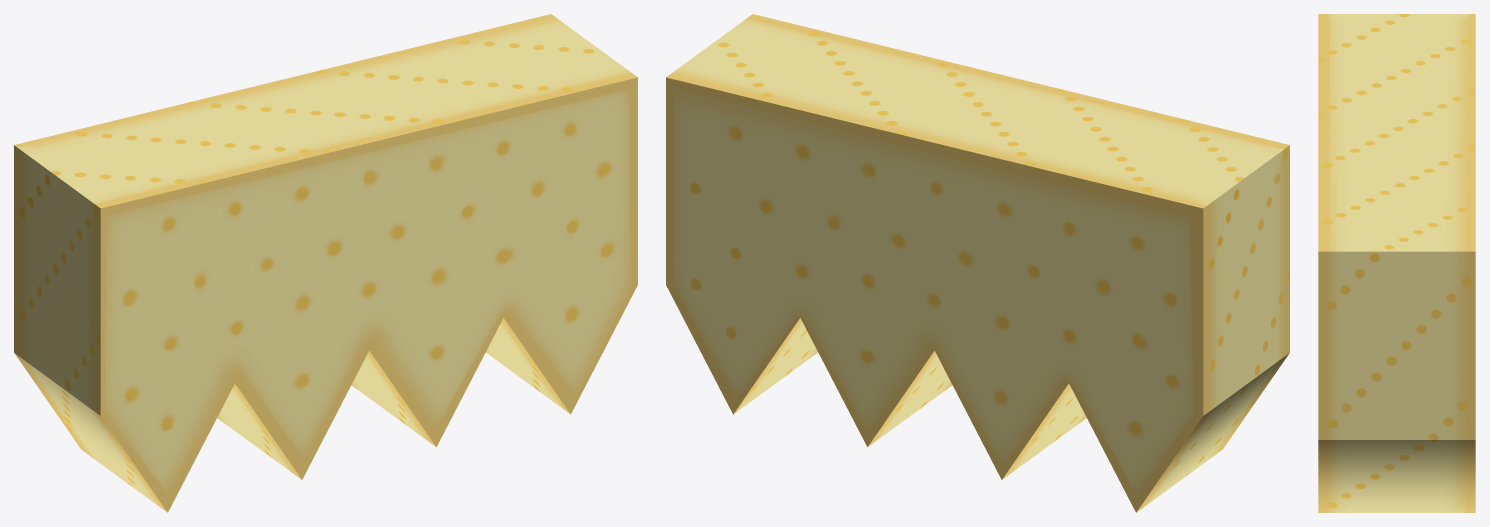
File: Saltin.fbx
3 views of the same model, side by side, from view 1: azimuth 30°, elevation 25°; view 2: azimuth 150°, elevation 25°; view 3: azimuth 270°, elevation 25° (orthographic). The views are drawn at different scales.
Parts seen in each view (by area): view 1: pCube8; view 2: pCube8; view 3: pCube8.
Part boxes in pixels (x1,y1,x2,y2): pCube8: (14, 14, 637, 512); pCube8: (666, 14, 1289, 512); pCube8: (1318, 14, 1475, 512).
Bounding box in the file's own units: 35.79 × 20.42 × 10.
Materials: 1 (1 with a texture image).
